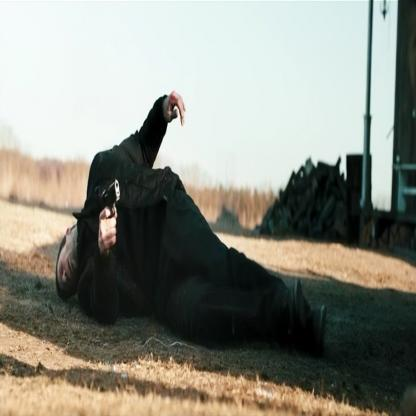gun: (97, 172, 126, 234)
